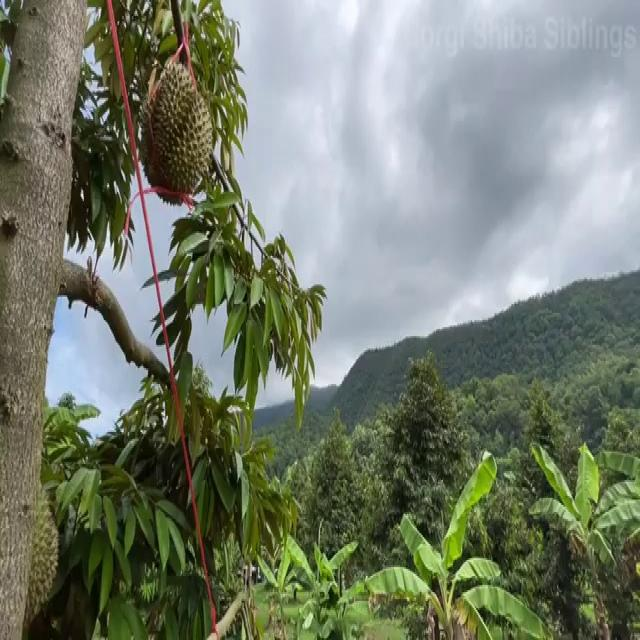durian: (136, 62, 216, 208)
